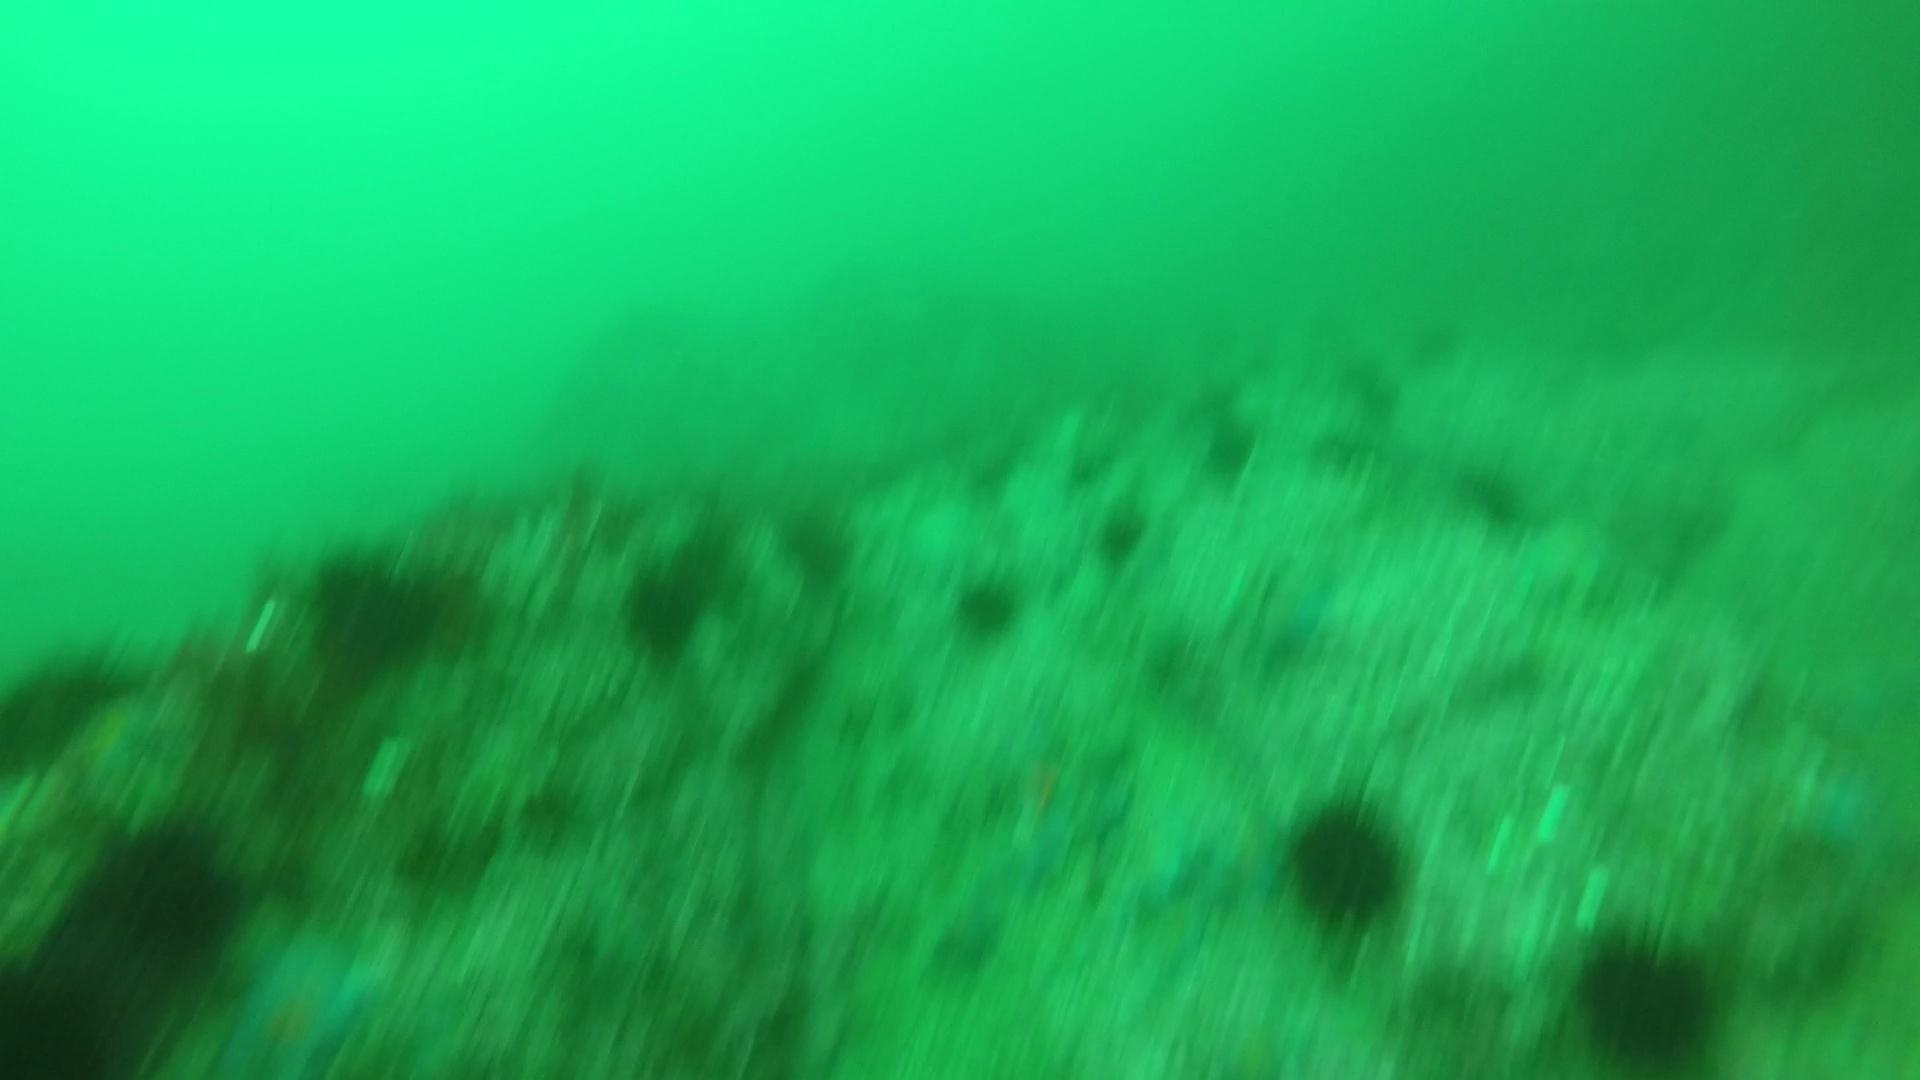echinus: (1567, 920, 1727, 1069), (96, 815, 245, 967), (3, 637, 146, 779), (306, 543, 455, 671), (1279, 791, 1414, 932), (1, 939, 131, 1079), (617, 560, 711, 659), (775, 502, 858, 585), (1449, 454, 1534, 534), (949, 568, 1027, 644), (1197, 414, 1261, 483), (1091, 500, 1151, 568)
starfish: (986, 720, 1137, 886), (214, 936, 378, 1080), (1244, 559, 1344, 670), (1510, 512, 1617, 608)
